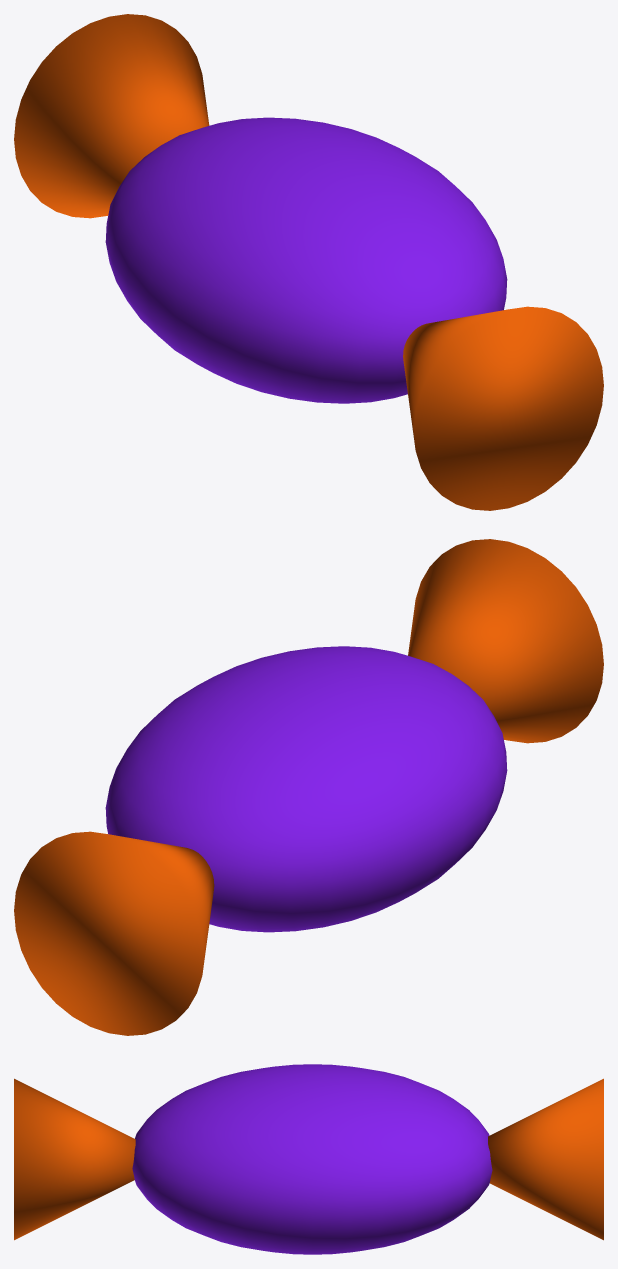
Rendered from Candy.fbx.
3 renders of one model, top to bottom at view 1: azimuth 30°, elevation 25°; view 2: azimuth 150°, elevation 25°; view 3: azimuth 270°, elevation 25°, orthographic. The views are drawn at different scales.
Visible parts, largest first — view 1: Sphere, Cone, Cone.001; view 2: Sphere, Cone.001, Cone; view 3: Sphere, Cone, Cone.001.
Part boxes in pixels (x1,y1,x2,y2): Sphere: [105, 117, 507, 403]; Cone: [403, 306, 603, 510]; Cone.001: [14, 14, 209, 218]; Sphere: [105, 646, 507, 932]; Cone.001: [14, 831, 214, 1035]; Cone: [408, 539, 603, 743]; Sphere: [132, 1064, 492, 1254]; Cone: [14, 1078, 135, 1240]; Cone.001: [488, 1078, 603, 1240].
Size of the model in its own units: 50 by 31.24 by 109.
